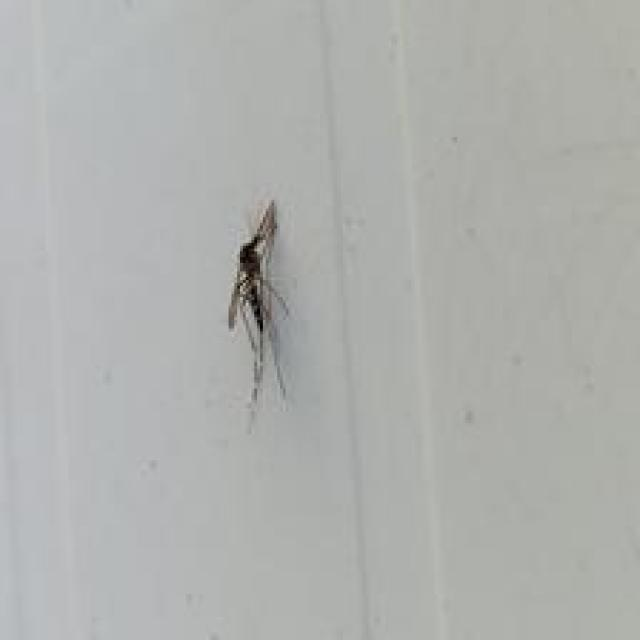Aedes albopictus: (226, 199, 291, 430)
